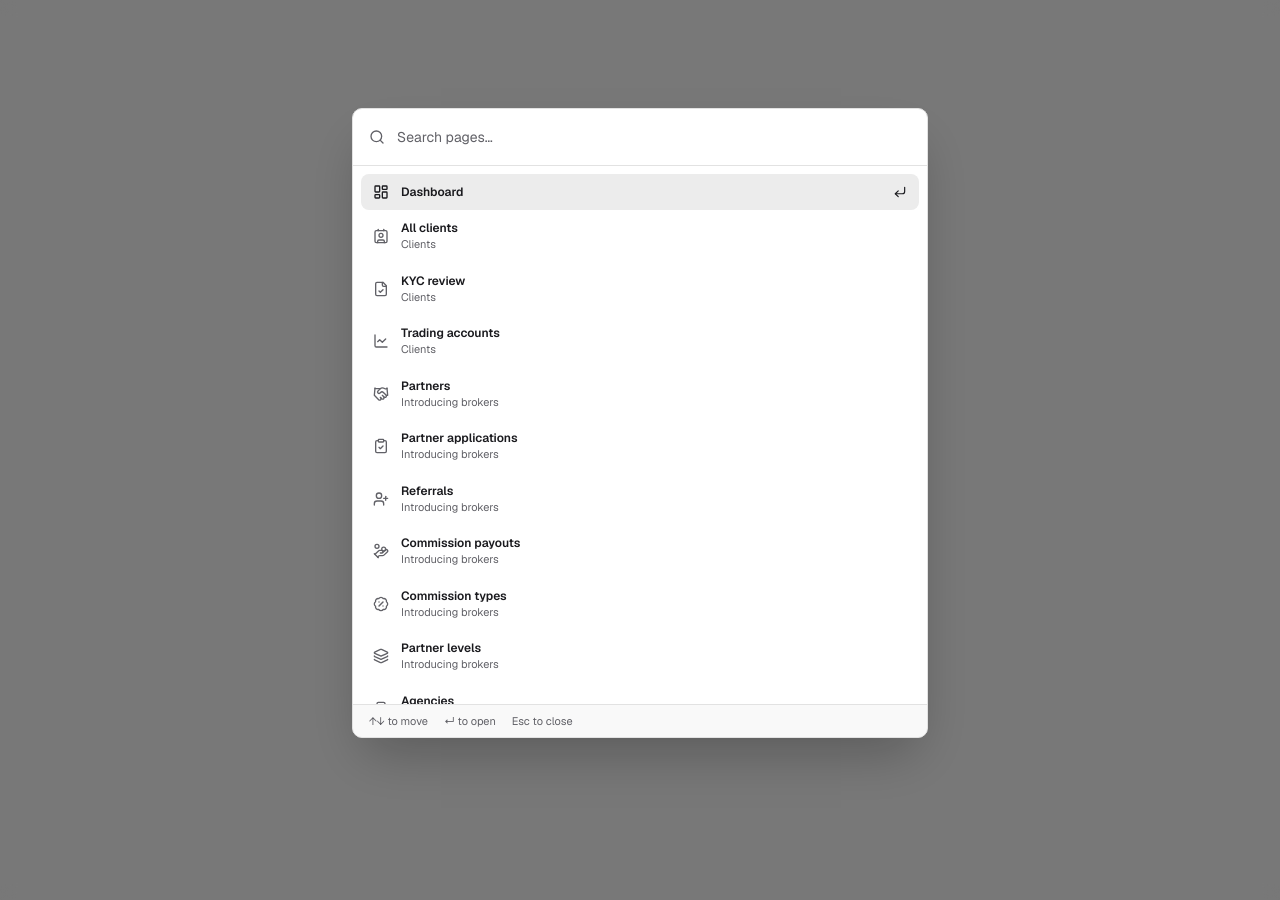
Test case: finding a page › says so when nothing matches, naming what was typed
The image size is (1280, 900).
Type "zzzznotapage" into the field at {"x": 654, "y": 137}, box 397,109 -> 911,165
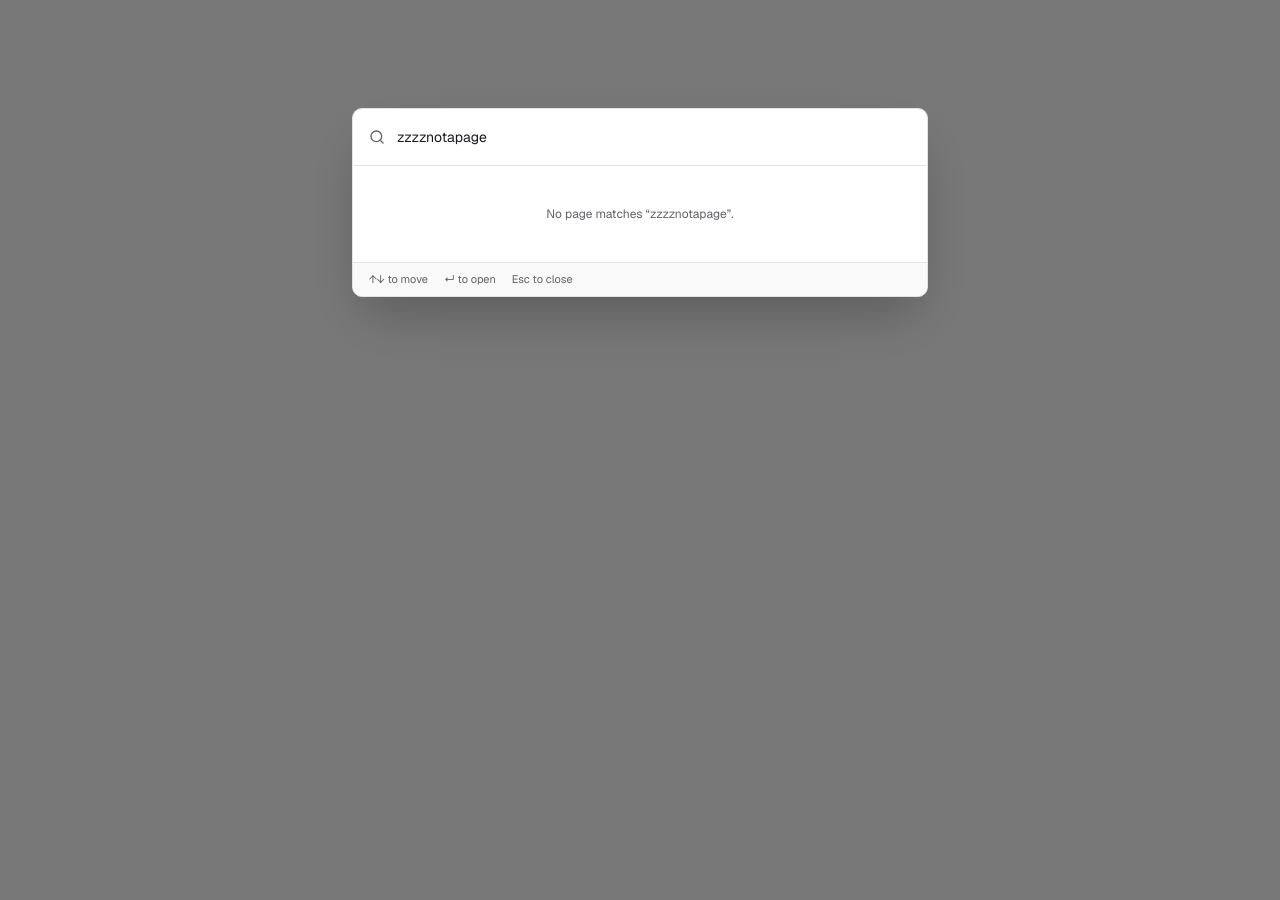
Check: the text "No page matches “zzzznotapage”." is shown, box 546,206 -> 734,222
Check: no options are shown
